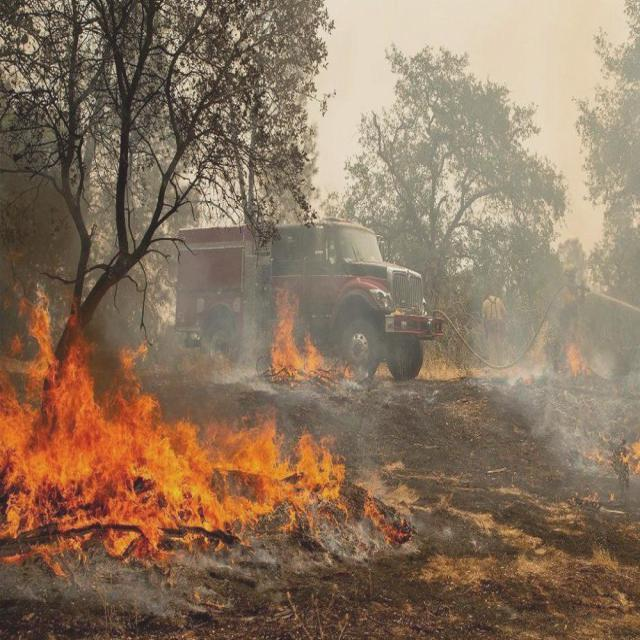Fire: (2, 294, 358, 562), (270, 284, 355, 384)
